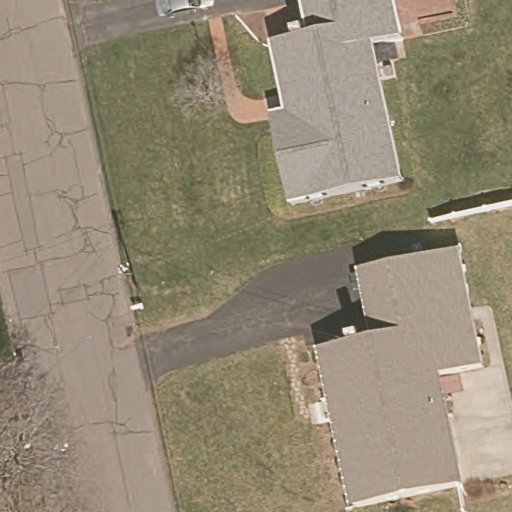DT: (116, 258, 143, 312)
